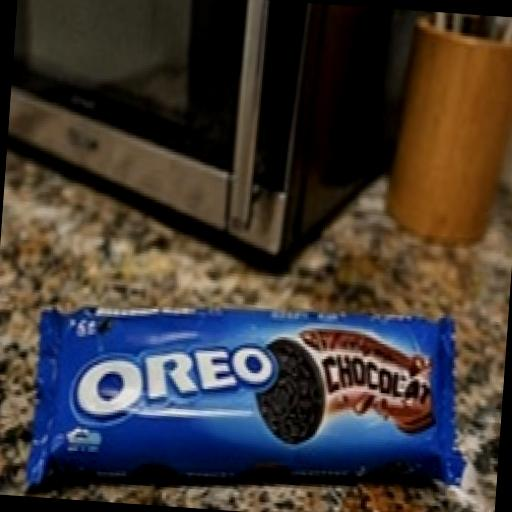oreo: (0, 227, 510, 512)
